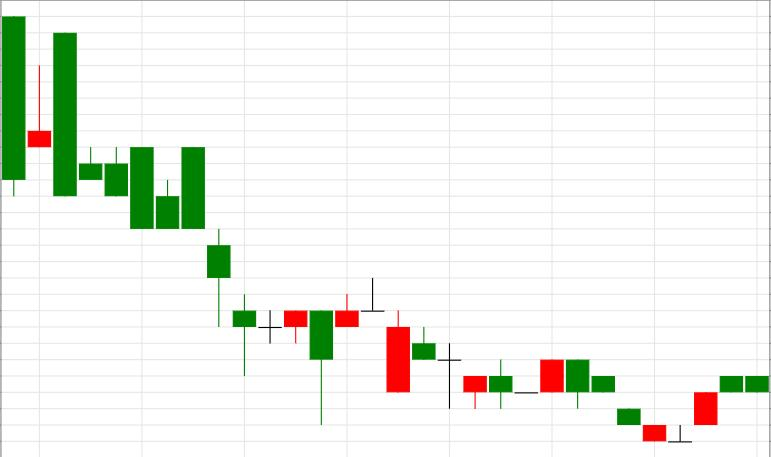hammer_rise: (80, 146, 332, 424)
